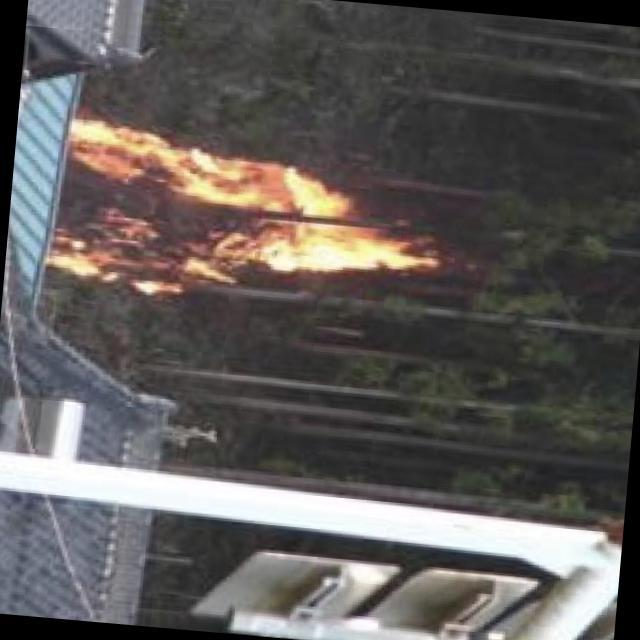Fire: (51, 130, 431, 315)
